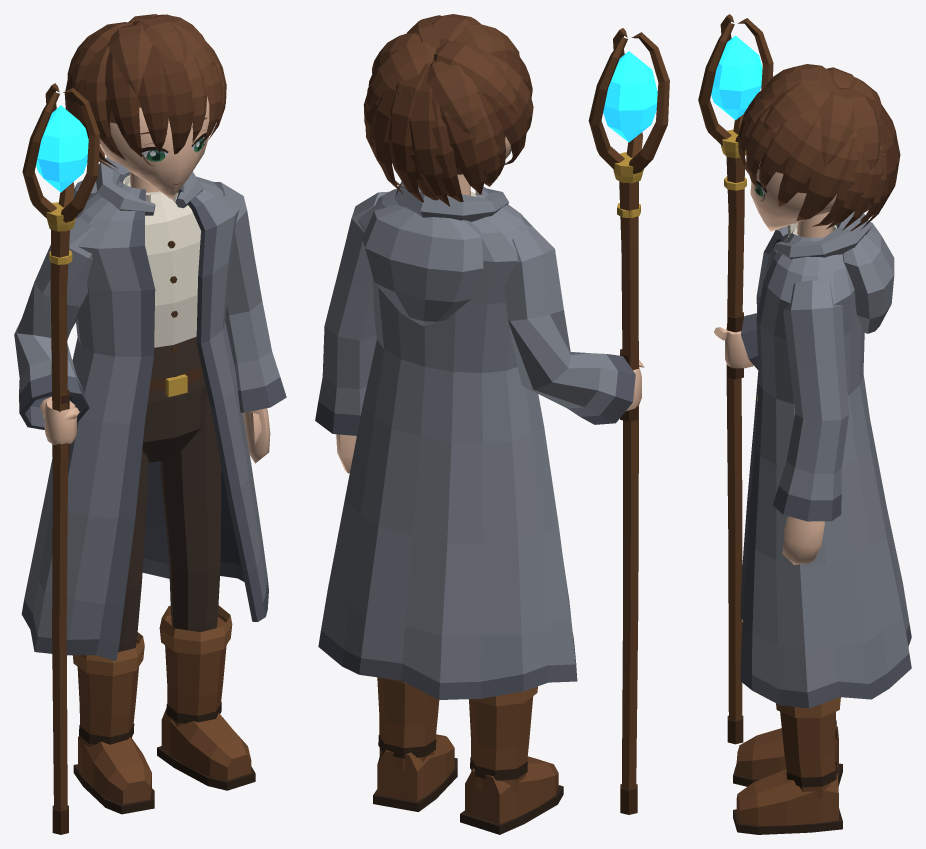
The model's file is rudeus_lowpoly.fbx.
The picture shows the model from 3 angles, left to right: view 1: azimuth 30°, elevation 25°; view 2: azimuth 150°, elevation 25°; view 3: azimuth 270°, elevation 25°; orthographic projection. The views are drawn at different scales.
Parts seen in each view (by area): view 1: Rudeus_Clothes, Rudeus_Hair, Aqua_Heartia, Rudeus_Body; view 2: Rudeus_Clothes, Rudeus_Hair, Aqua_Heartia, Rudeus_Body; view 3: Rudeus_Clothes, Rudeus_Hair, Aqua_Heartia, Rudeus_Body.
Boxes of the visible parts, <box> form: Rudeus_Clothes: <box>14,157,286,814</box>; Rudeus_Hair: <box>64,14,226,169</box>; Aqua_Heartia: <box>22,83,99,834</box>; Rudeus_Body: <box>40,96,270,463</box>; Rudeus_Clothes: <box>315,182,635,834</box>; Rudeus_Hair: <box>363,14,533,206</box>; Aqua_Heartia: <box>588,28,669,814</box>; Rudeus_Body: <box>336,136,644,473</box>; Rudeus_Clothes: <box>733,211,911,834</box>; Rudeus_Hair: <box>738,64,900,231</box>; Aqua_Heartia: <box>698,14,773,744</box>; Rudeus_Body: <box>714,161,836,564</box>.
Size of the model in its own units: 0.6903 by 1.67 by 0.4441.
17 materials, 1 textured.
